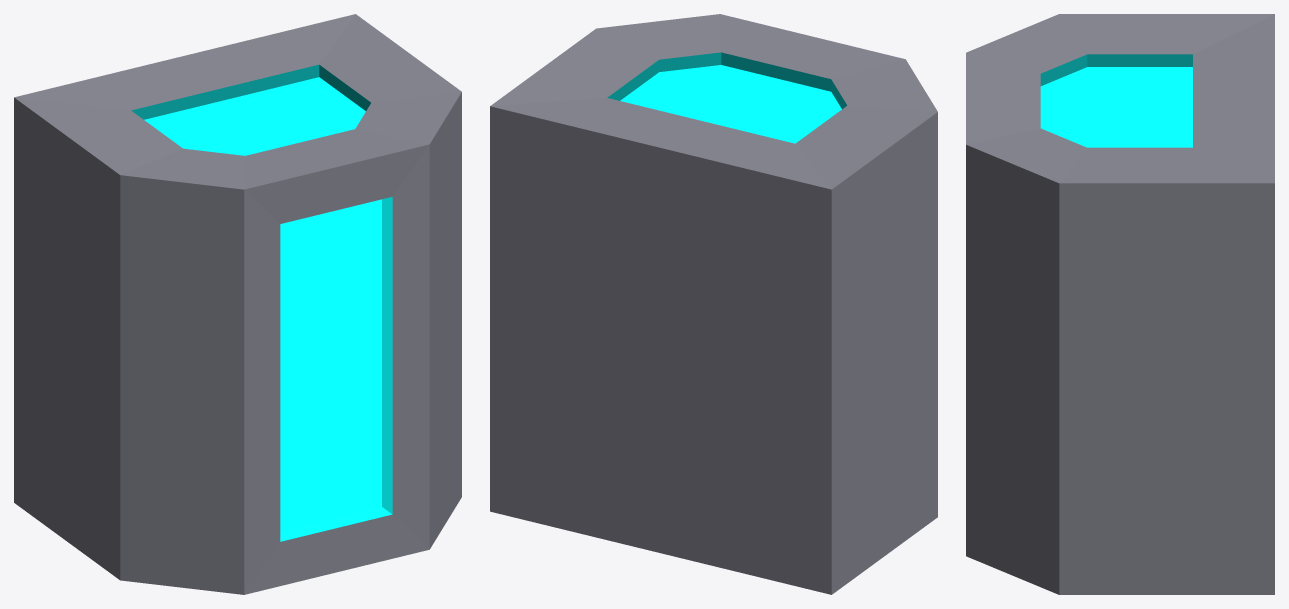
File: silver_anubis.gltf
The picture shows the model from 3 angles, left to right: view 1: azimuth 30°, elevation 25°; view 2: azimuth 150°, elevation 25°; view 3: azimuth 270°, elevation 25°; orthographic projection.
Parts seen in each view (by area): view 1: silver_anubis; view 2: silver_anubis; view 3: silver_anubis.
Part boxes in pixels (bbox=[...]): silver_anubis: bbox=[14, 14, 461, 594]; silver_anubis: bbox=[490, 14, 937, 594]; silver_anubis: bbox=[966, 14, 1274, 594].
Size of what is drawn, in the model's own units: 1.5 by 1.7 by 1.16.
Materials: 2 (2 with a texture image).
